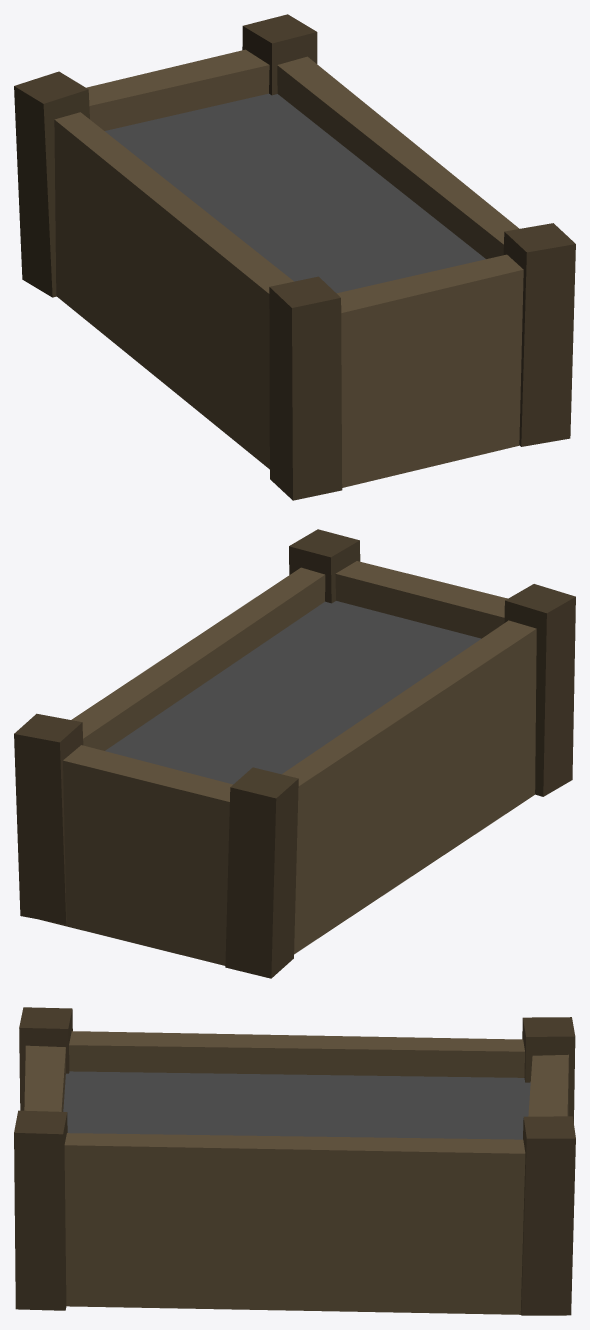
Rendered from Planter.fbx.
3 views of the same model, one above another, from view 1: azimuth 30°, elevation 25°; view 2: azimuth 150°, elevation 25°; view 3: azimuth 270°, elevation 25° (orthographic). The views are drawn at different scales.
Parts seen in each view (by area): view 1: Planter_1, pasted__pCube16, pasted__pCube18, pasted__pCube15, pasted__pCube17; view 2: Planter_1, pasted__pCube15, pasted__pCube17, pasted__pCube16, pasted__pCube18; view 3: Planter_1, pasted__pCube18, pasted__pCube17, pasted__pCube15, pasted__pCube16.
Boxes of the visible parts, x1,y1,x2,y2 form: Planter_1: (54,49,523,487); pasted__pCube16: (269,276,342,500); pasted__pCube18: (503,223,575,446); pasted__pCube15: (14,71,89,297); pasted__pCube17: (242,14,317,95); Planter_1: (40,561,536,965); pasted__pCube15: (225,767,298,978); pasted__pCube17: (14,713,83,924); pasted__pCube16: (504,584,575,796); pasted__pCube18: (289,529,360,603); Planter_1: (24,1031,568,1315); pasted__pCube18: (14,1110,67,1310); pasted__pCube17: (520,1116,575,1315); pasted__pCube15: (522,1017,575,1122); pasted__pCube16: (19,1007,72,1110).
Bounding box in the file's own units: 115 × 73.55 × 204.
